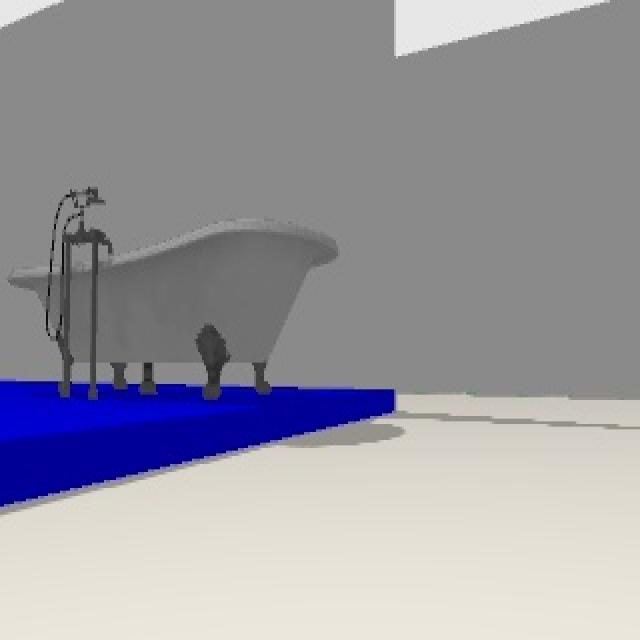bathtub: (11, 190, 339, 399)
